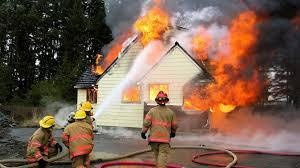fire: (184, 10, 264, 115), (133, 1, 169, 45), (122, 85, 140, 102)
